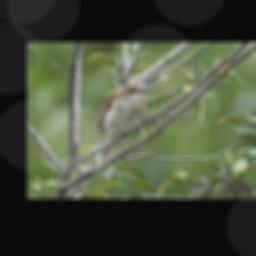Cuckoo: (94, 80, 152, 165)
